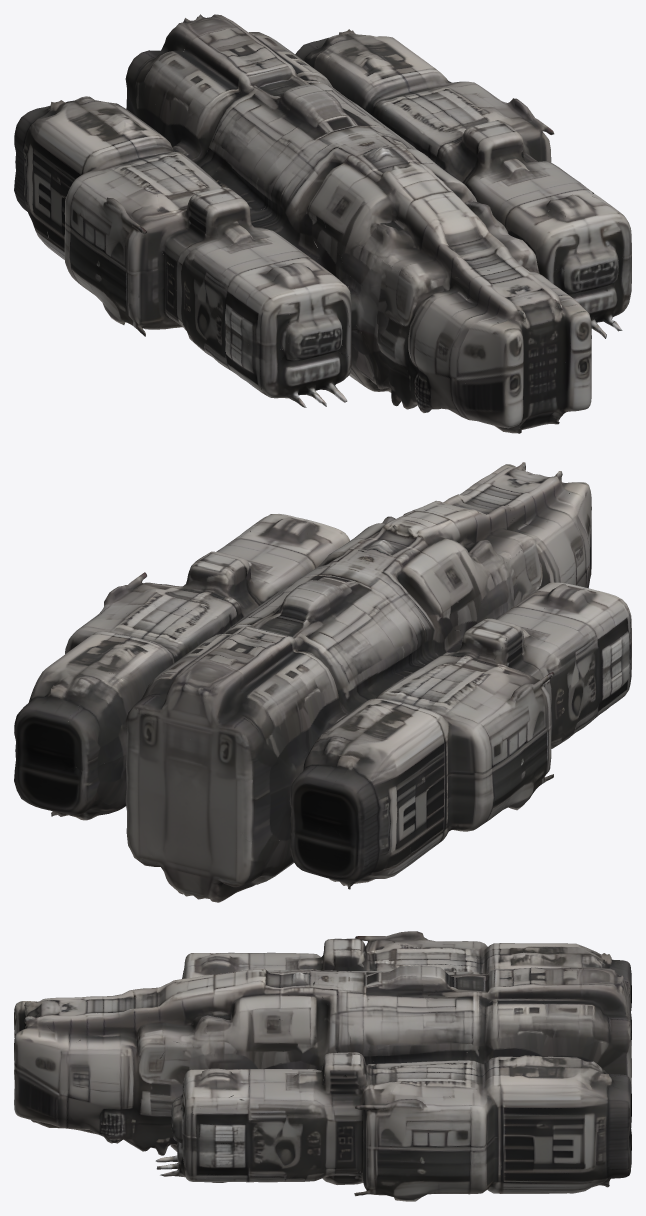
File: naves Enemiga 2.fbx
The picture shows the model from 3 angles, top to bottom: view 1: azimuth 30°, elevation 25°; view 2: azimuth 150°, elevation 25°; view 3: azimuth 270°, elevation 25°; orthographic projection. The views are drawn at different scales.
Visible parts, largest first — view 1: Nave enemiga 1, Nave enemiga 1_cell.039, Nave enemiga 1_cell.029, Nave enemiga 1_cell.046, Nave enemiga 1_cell.004, Nave enemiga 1_cell.094, Nave enemiga 1_cell.047, Nave enemiga 1_cell.001, Nave enemiga 1_cell.072, Nave enemiga 1_cell.006, Nave enemiga 1_cell.049, Nave enemiga 1_cell.084 (+32 smaller); view 2: Nave enemiga 1, Nave enemiga 1_cell.071, Nave enemiga 1_cell.050, Nave enemiga 1_cell.028, Nave enemiga 1_cell.065, Nave enemiga 1_cell.037, Nave enemiga 1_cell.039, Nave enemiga 1_cell.004, Nave enemiga 1_cell.003, Nave enemiga 1_cell.046, Nave enemiga 1_cell.069, Nave enemiga 1_cell.087 (+29 smaller); view 3: Nave enemiga 1, Nave enemiga 1_cell.045, Nave enemiga 1_cell.082, Nave enemiga 1_cell.092, Nave enemiga 1_cell.095, Nave enemiga 1_cell.011, Nave enemiga 1_cell.065, Nave enemiga 1_cell.042, Nave enemiga 1_cell.061, Nave enemiga 1_cell.072, Nave enemiga 1_cell.023, Nave enemiga 1_cell.101 (+26 smaller).
Boxes of the visible parts, x1,y1,x2,y2 form: Nave enemiga 1: (14,22,631,433); Nave enemiga 1_cell.039: (155,34,251,138); Nave enemiga 1_cell.029: (393,277,478,420); Nave enemiga 1_cell.046: (274,128,368,252); Nave enemiga 1_cell.004: (221,84,329,150); Nave enemiga 1_cell.094: (34,105,129,245); Nave enemiga 1_cell.047: (85,170,159,245); Nave enemiga 1_cell.001: (124,106,225,176); Nave enemiga 1_cell.072: (326,46,427,120); Nave enemiga 1_cell.006: (420,108,518,179); Nave enemiga 1_cell.049: (219,259,291,352); Nave enemiga 1_cell.084: (288,263,349,355); Nave enemiga 1: (14,462,631,902); Nave enemiga 1_cell.071: (189,679,300,798); Nave enemiga 1_cell.050: (423,696,513,854); Nave enemiga 1_cell.028: (325,759,410,864); Nave enemiga 1_cell.065: (14,662,96,785); Nave enemiga 1_cell.037: (212,730,363,850); Nave enemiga 1_cell.039: (226,639,325,752); Nave enemiga 1_cell.004: (279,582,380,664); Nave enemiga 1_cell.003: (69,673,198,801); Nave enemiga 1_cell.046: (353,555,465,631); Nave enemiga 1_cell.069: (173,798,292,901); Nave enemiga 1_cell.087: (80,755,191,860); Nave enemiga 1: (14,932,631,1201); Nave enemiga 1_cell.045: (431,1066,565,1166); Nave enemiga 1_cell.082: (294,1071,398,1180); Nave enemiga 1_cell.092: (540,967,630,1056); Nave enemiga 1_cell.095: (428,968,542,1049); Nave enemiga 1_cell.011: (314,970,428,1049); Nave enemiga 1_cell.065: (547,1062,631,1169); Nave enemiga 1_cell.042: (283,990,373,1070); Nave enemiga 1_cell.061: (348,1164,491,1201); Nave enemiga 1_cell.072: (454,1038,568,1076); Nave enemiga 1_cell.023: (386,1083,475,1165); Nave enemiga 1_cell.101: (153,1041,219,1102).
Bounding box in the file's own units: 130 × 66.43 × 190.
